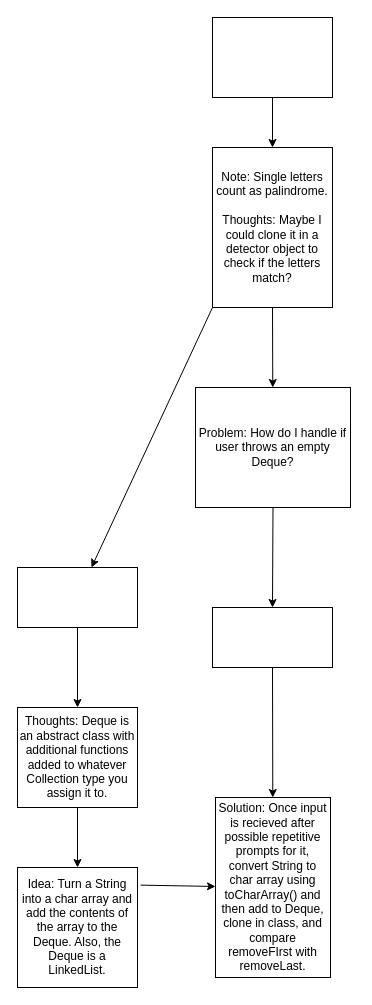
This 372x1005 diagram has some shape labels left out. The shapes that lost their labels are listed below. From the top down, each one's box as (x1, y1, x2, y2) in pixels, then its label:
(212, 16, 332, 98): Task:Use Deque to detect if user input is a palindrome.
(16, 566, 138, 628): Problem: How do I turn a String into a Deque of letters?
(212, 606, 332, 668): Idea: Throw a while loop to force user to send something
